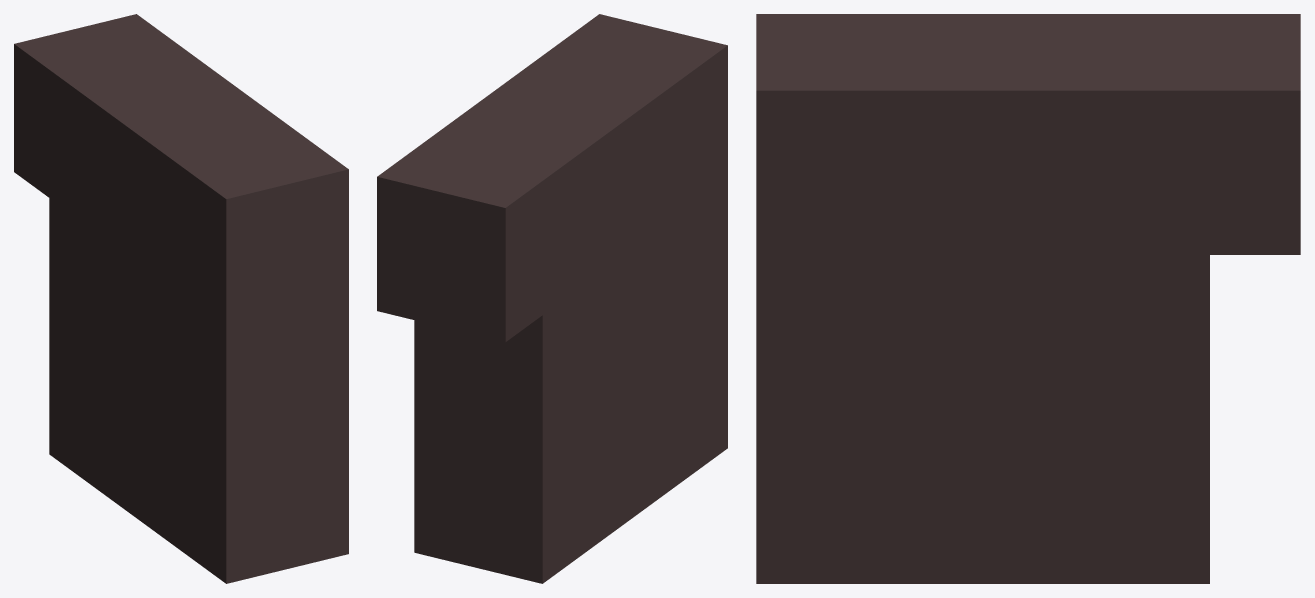
The model's file is metralleta-0.obj.
The picture shows the model from 3 angles, left to right: view 1: azimuth 30°, elevation 25°; view 2: azimuth 150°, elevation 25°; view 3: azimuth 270°, elevation 25°; orthographic projection. The views are drawn at different scales.
Bounding box in the file's own units: 0.2 × 0.6 × 0.6.
1 material, 1 textured.
